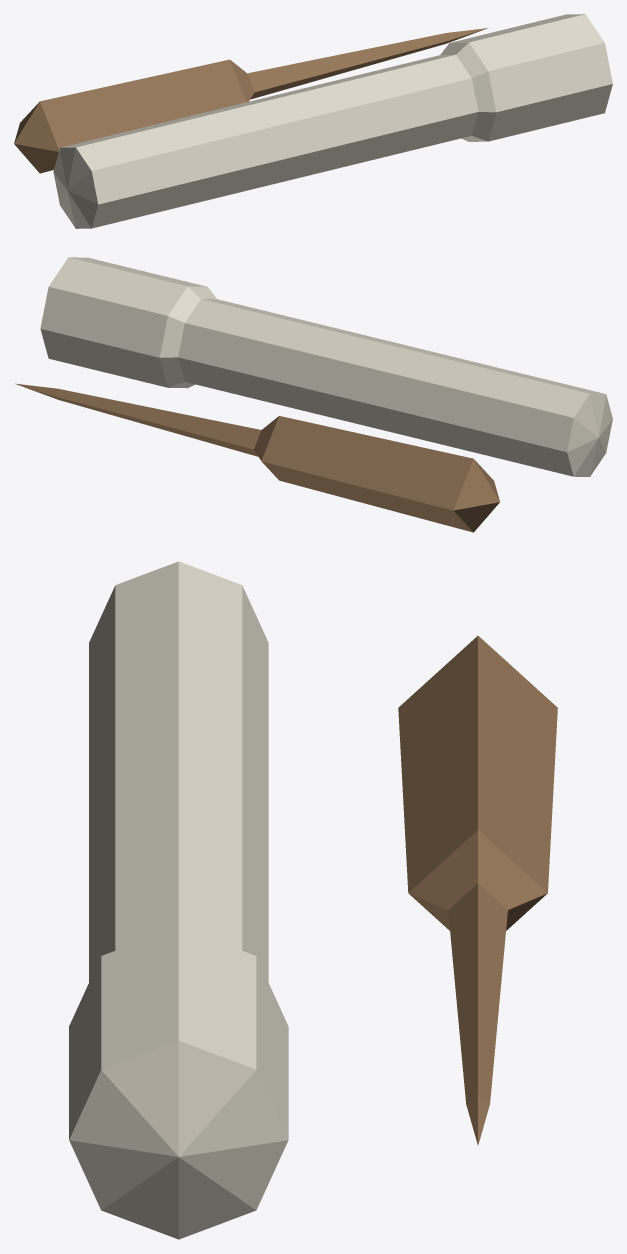
The model's file is prop-fur-needle-case.fbx.
3 renders of one model, top to bottom at view 1: azimuth 30°, elevation 25°; view 2: azimuth 150°, elevation 25°; view 3: azimuth 270°, elevation 25°, orthographic. The views are drawn at different scales.
Visible parts, largest first — view 1: prop-fur-needle-case; view 2: prop-fur-needle-case; view 3: prop-fur-needle-case.
Boxes of the visible parts, x1=… form: prop-fur-needle-case: x1=14, y1=14, x2=612, y2=228; prop-fur-needle-case: x1=15, y1=257, x2=612, y2=532; prop-fur-needle-case: x1=69, y1=561, x2=557, y2=1239.
Size of the model in its own units: 12.4 by 2.2 by 4.9.
